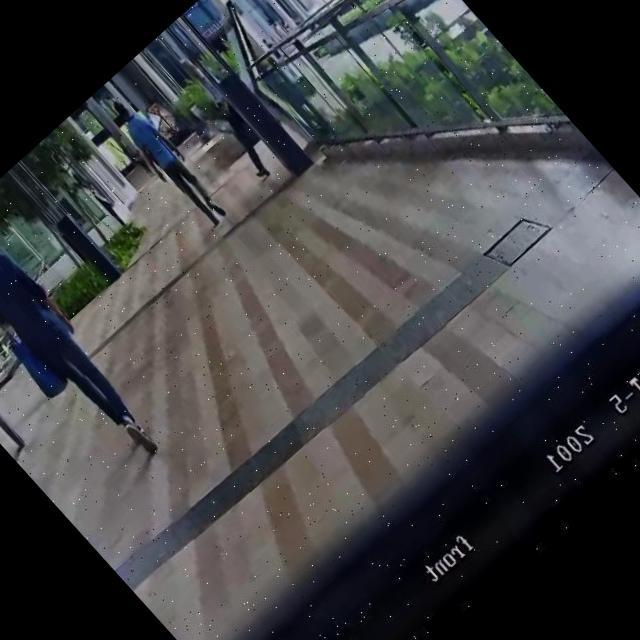person: (0, 204, 176, 473), (102, 93, 235, 235), (164, 51, 286, 181), (82, 178, 126, 226)
